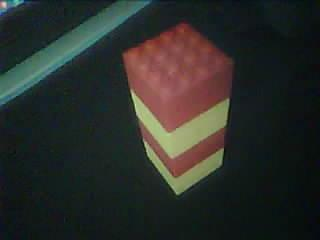lego: (122, 22, 235, 195)
